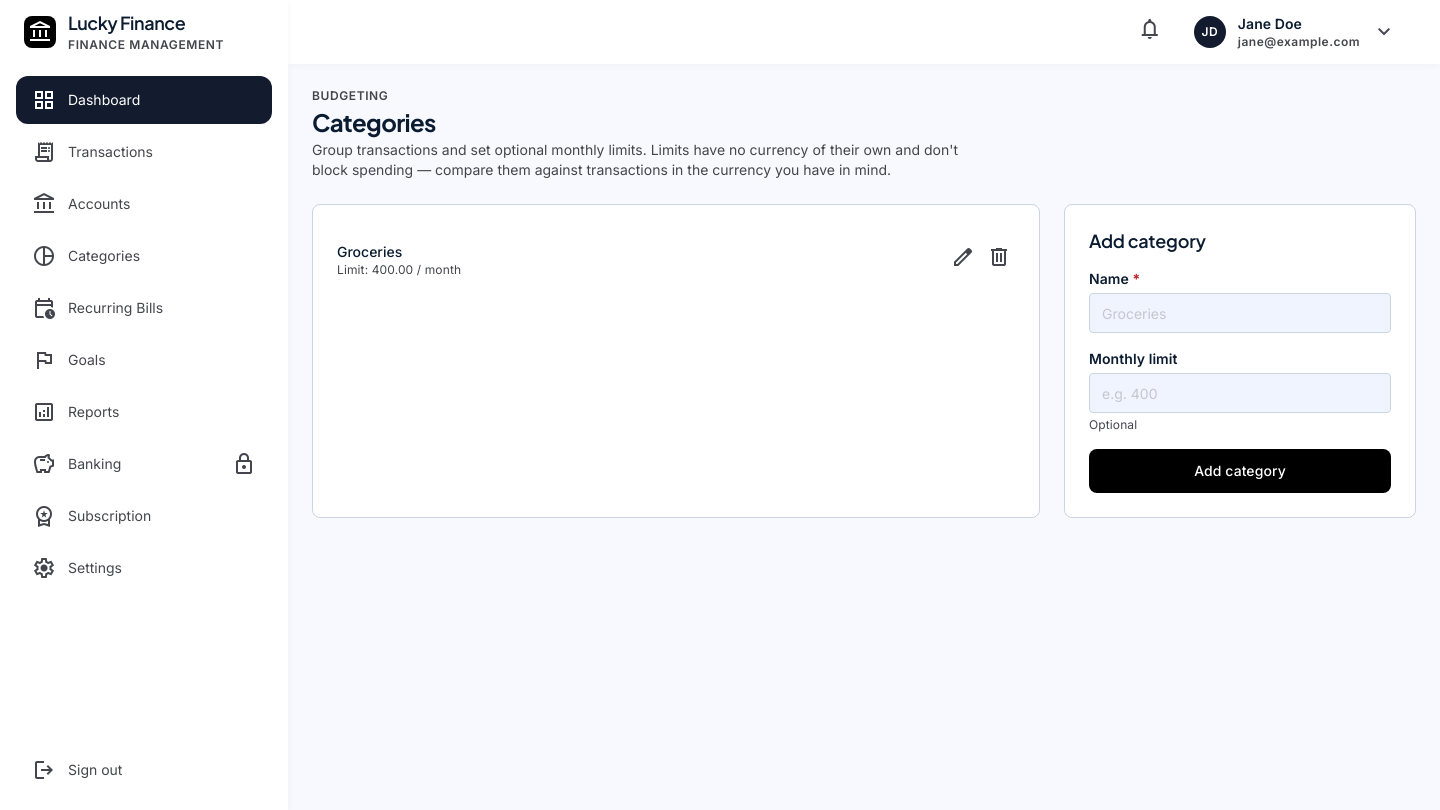
Test: CategoriesPage › edits a category and returns the form to its add state afterward
This screenshot has width=1440, height=810.
Check: the text "Groceries" is shown, box x1=337 y1=243 x2=402 y2=260
Click the button titled "Edit".
click(963, 260)  # box x1=947 y1=241 x2=979 y2=279
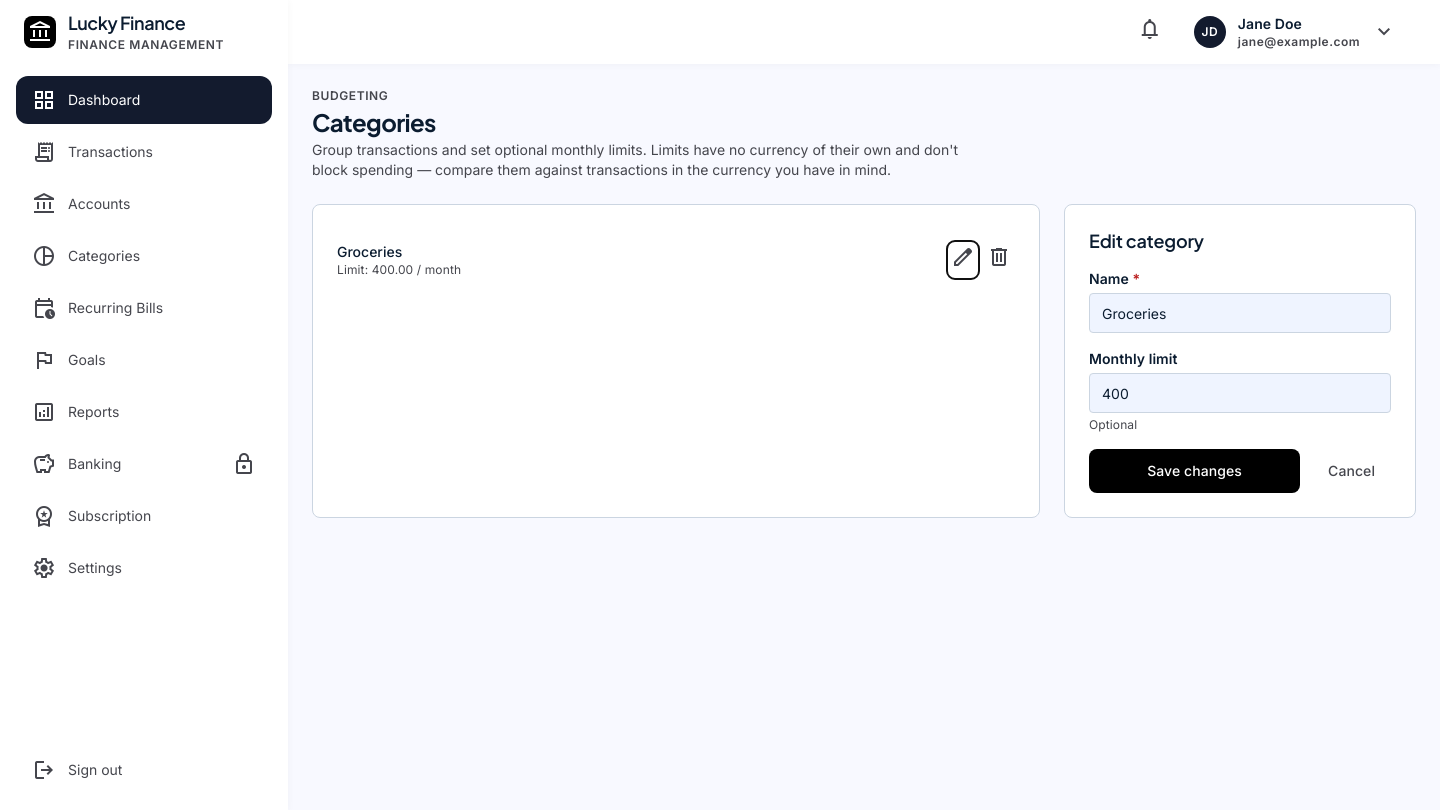
Check: the heading "Edit category" is shown, box x1=1089 y1=229 x2=1204 y2=252
Type "Groceries (renamed)" into the field labelled "Name *".
click(1240, 313); type("Groceries (renamed)")  # box x1=1089 y1=293 x2=1391 y2=333
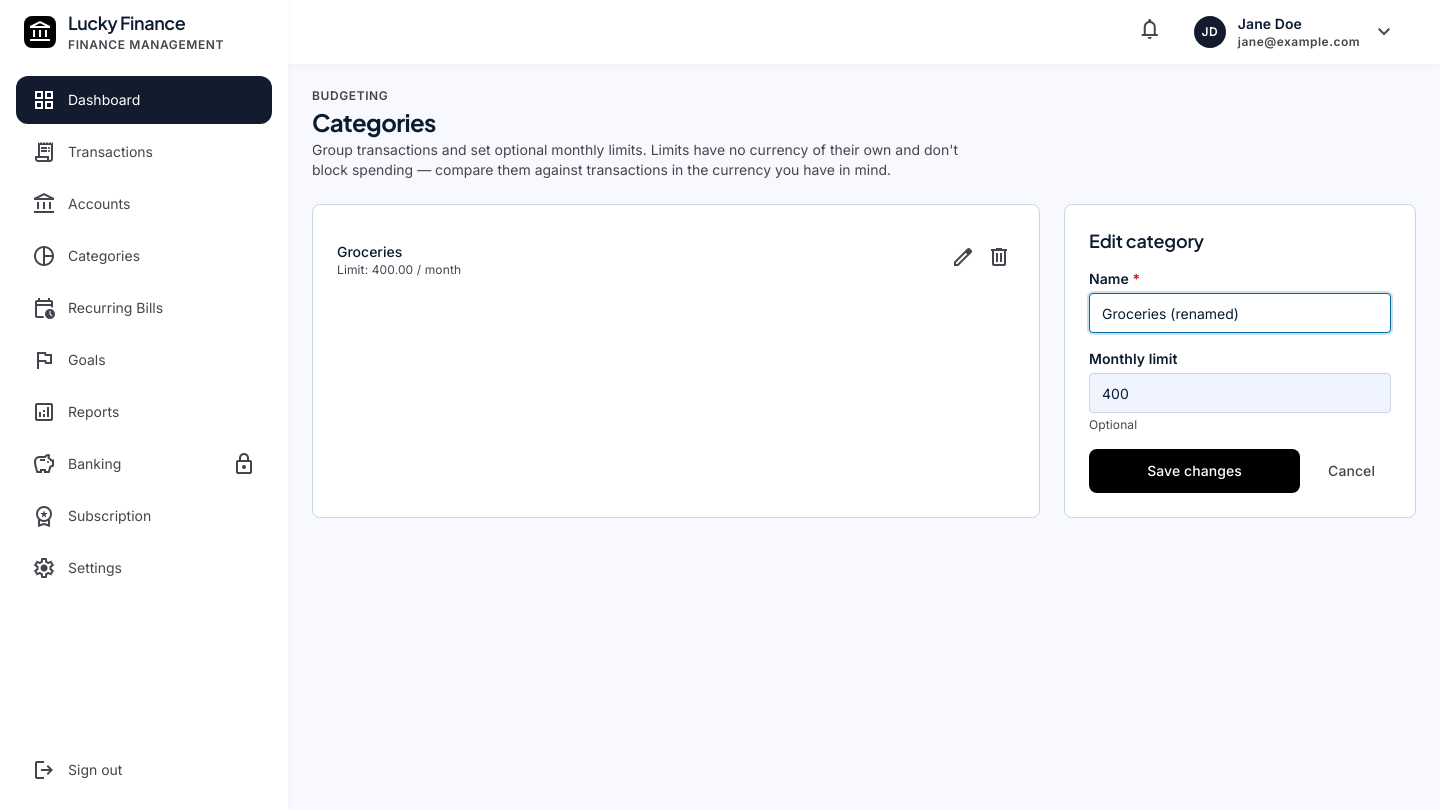
Replace the text in the number field labelled "Monthly limit" with "500" at point(1240, 393), box x1=1089 y1=373 x2=1391 y2=413
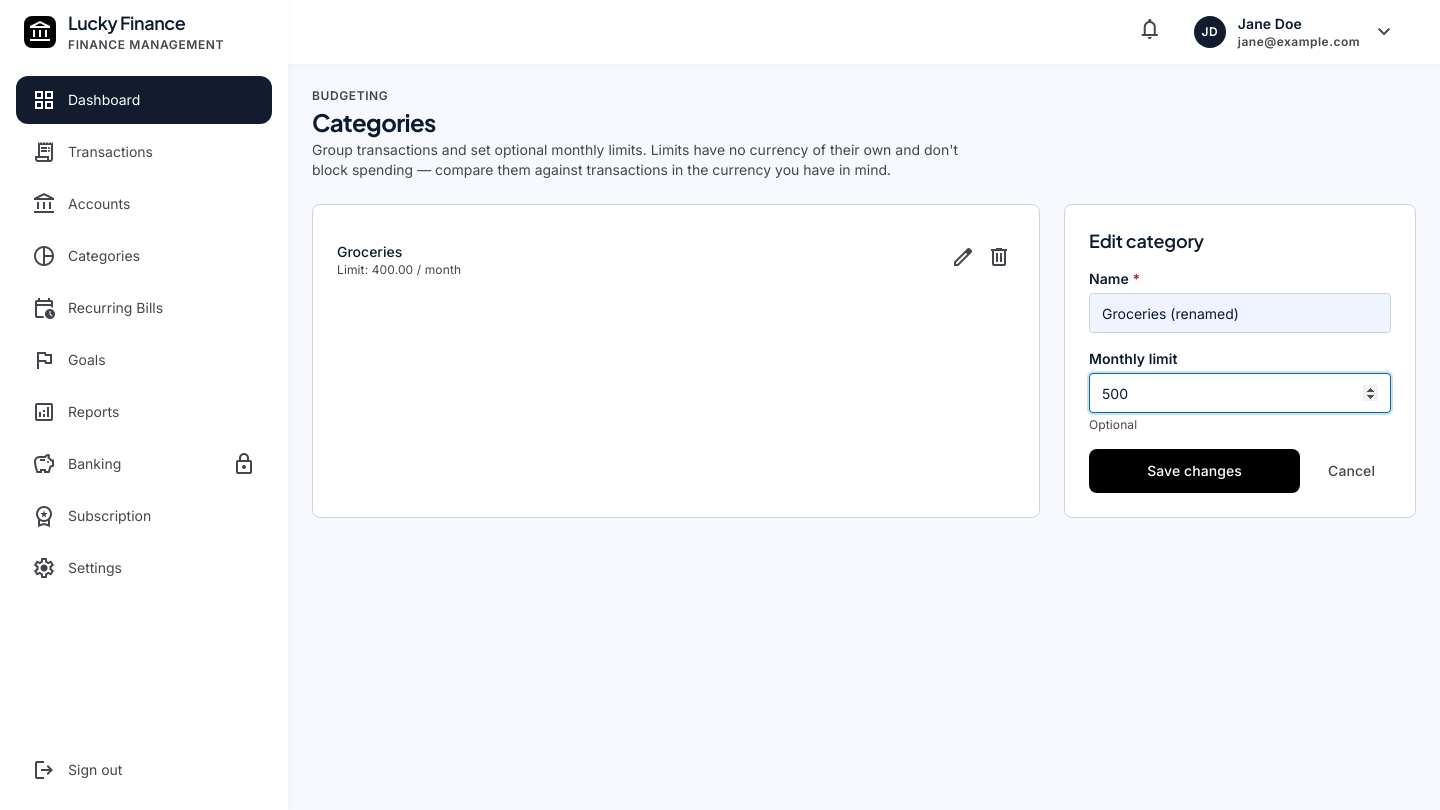
Click the button "Save changes".
click(1195, 471)  # box x1=1089 y1=449 x2=1300 y2=493
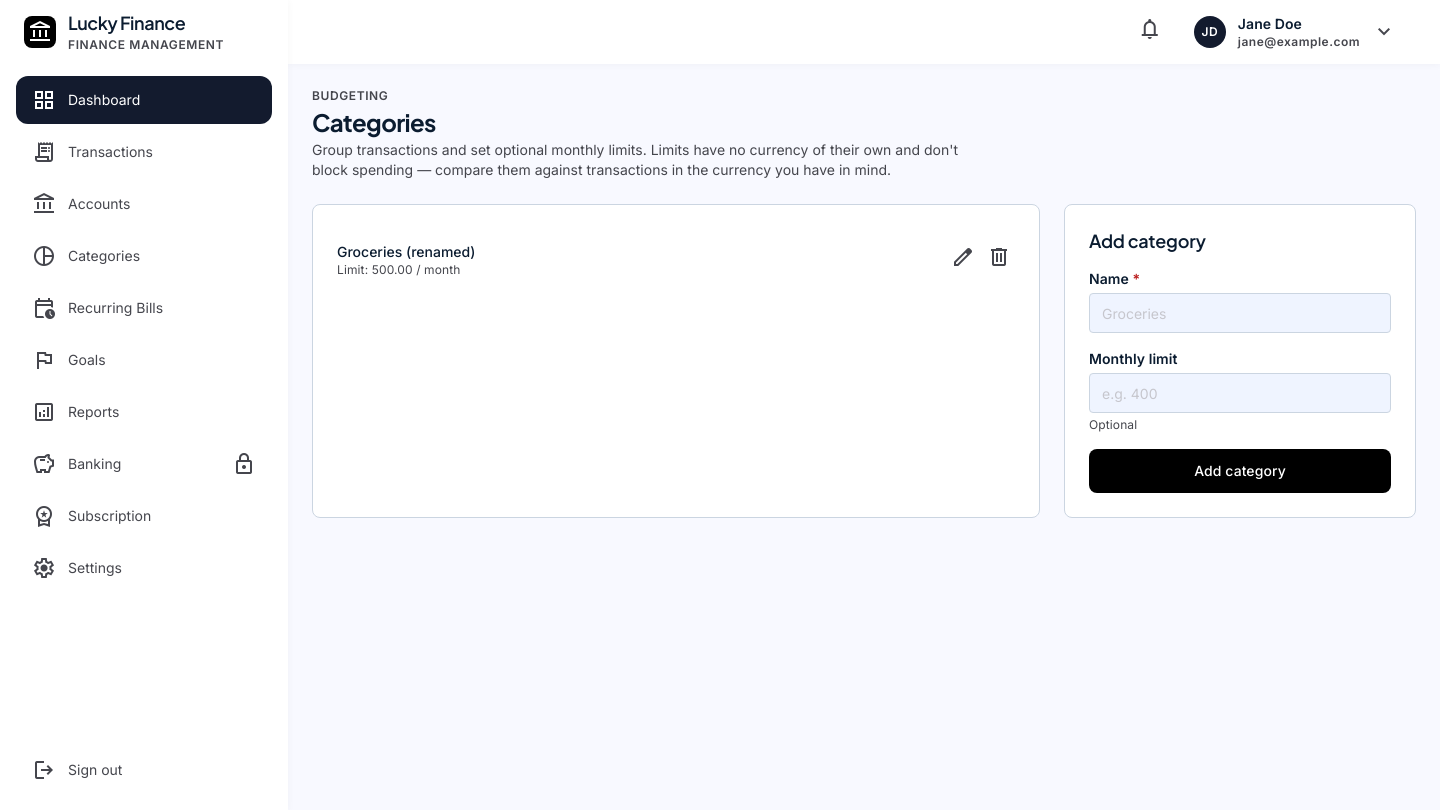
Check: the text "Groceries (renamed)" is shown, box x1=337 y1=242 x2=476 y2=262
Check: the heading "Add category" is shown, box x1=1089 y1=229 x2=1206 y2=252
